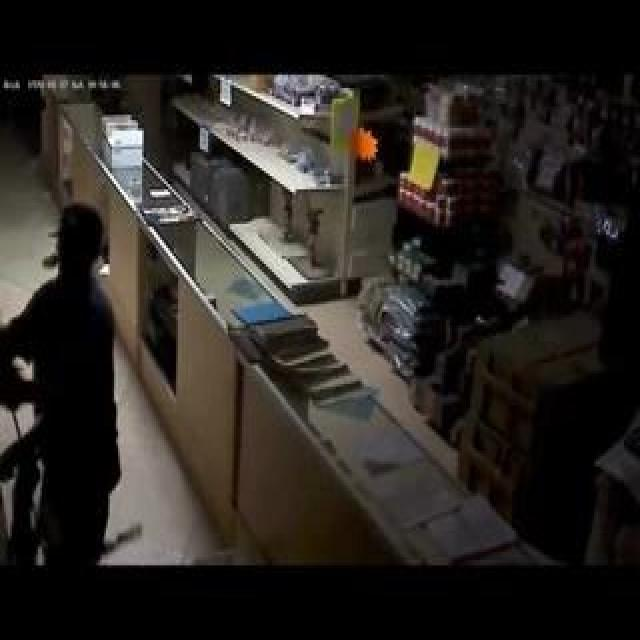thief: (42, 182, 121, 336)
